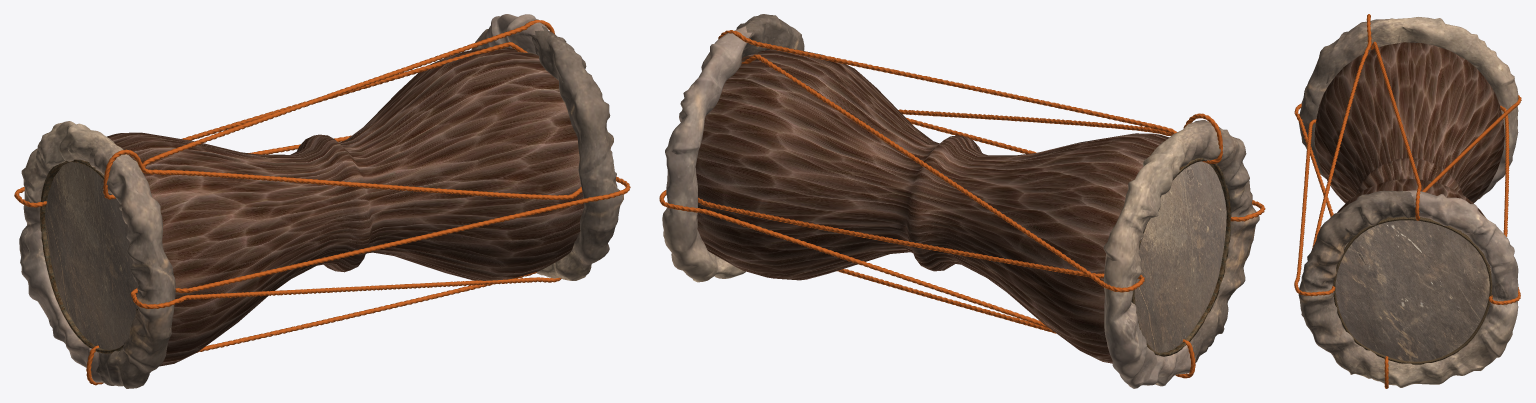
The model's file is Paniya_Thudi.glb.
3 views of the same model, side by side, from view 1: azimuth 30°, elevation 25°; view 2: azimuth 150°, elevation 25°; view 3: azimuth 270°, elevation 25° (orthographic). The views are drawn at different scales.
Visible parts, largest first — view 1: Hourglass.cleanUV.001, skinroll left.baked, Rope.001, Skin, skin roll right. baked, Metal tightner left.001; view 2: Hourglass.cleanUV.001, skinroll left.baked, Rope.001, Skin, skin roll right. baked, Metal tightner left.001; view 3: Hourglass.cleanUV.001, Skin, skin roll right. baked, skinroll left.baked, Rope.001, Metal tightner right.001.
Boxes of the visible parts, x1,y1,x2,y2 form: Hourglass.cleanUV.001: [66, 47, 584, 366]; skinroll left.baked: [19, 121, 175, 388]; Rope.001: [14, 20, 630, 385]; Skin: [45, 162, 137, 349]; skin roll right. baked: [471, 14, 623, 280]; Metal tightner left.001: [40, 159, 138, 353]; Hourglass.cleanUV.001: [695, 49, 1208, 363]; skinroll left.baked: [1103, 120, 1259, 388]; Rope.001: [659, 30, 1265, 378]; Skin: [1134, 161, 1226, 352]; skin roll right. baked: [662, 14, 804, 282]; Metal tightner left.001: [1131, 158, 1231, 356]; Hourglass.cleanUV.001: [1314, 42, 1504, 271]; Skin: [1335, 216, 1491, 361]; skin roll right. baked: [1298, 190, 1518, 387]; skinroll left.baked: [1298, 17, 1518, 199]; Rope.001: [1294, 14, 1521, 388]; Metal tightner right.001: [1333, 216, 1492, 364].
Size of the model in its own units: 0.3485 by 0.1697 by 0.1746.
7 materials, 7 textured.
